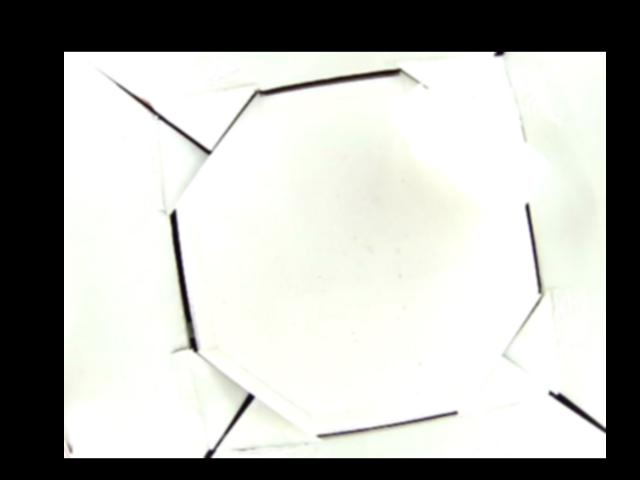Bottle: (390, 80, 546, 221)
